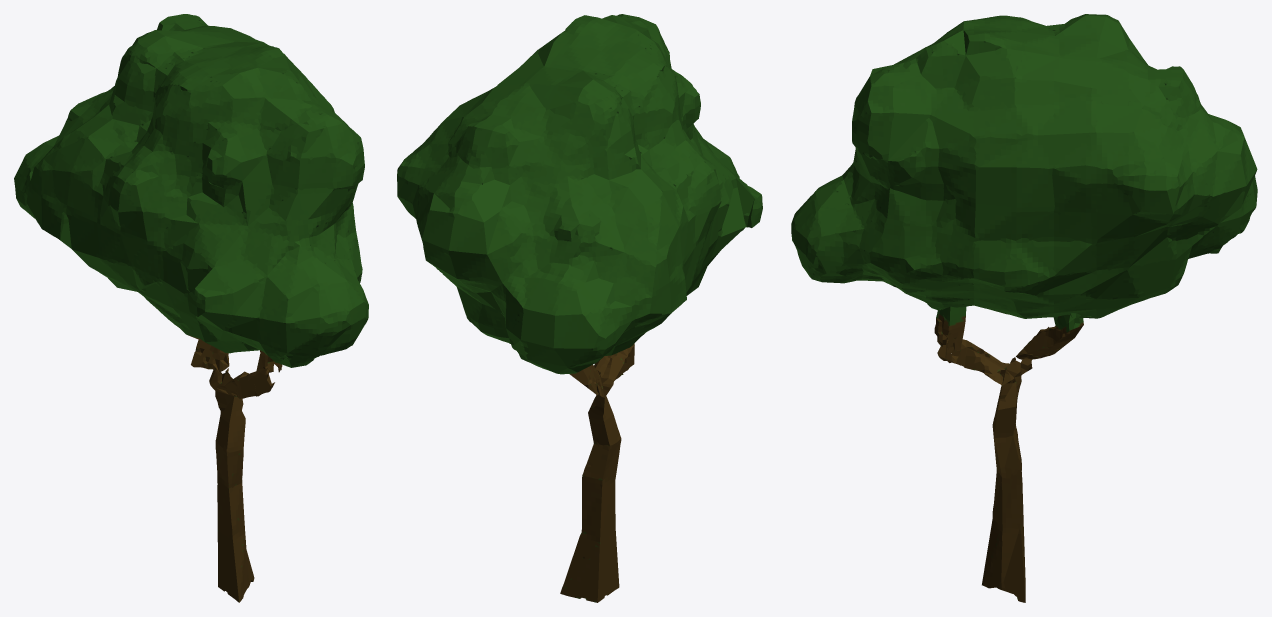
File: Arvore 01.fbx
The picture shows the model from 3 angles, left to right: view 1: azimuth 30°, elevation 25°; view 2: azimuth 150°, elevation 25°; view 3: azimuth 270°, elevation 25°; orthographic projection. The views are drawn at different scales.
Visible parts, largest first — view 1: Esfera-meta.003; view 2: Esfera-meta.003; view 3: Esfera-meta.003.
Part boxes in pixels (bbox=[...]): Esfera-meta.003: bbox=[14, 14, 368, 602]; Esfera-meta.003: bbox=[397, 14, 762, 602]; Esfera-meta.003: bbox=[791, 14, 1257, 602].
Size of the model in its own units: 5432 by 11277 by 8430.
Materials: 1 (1 with a texture image).
